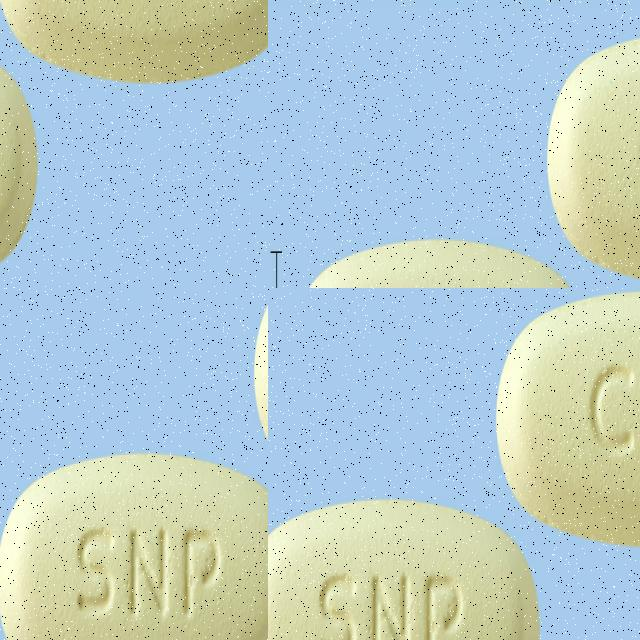A Progen Clarithromycin Tab-500mg: (493, 288, 640, 552), (268, 499, 542, 640)
Amoxicle-7-1-: (8, 477, 268, 640)
Clar - 500mg: (286, 216, 579, 288), (558, 51, 640, 288)
Clarion: (2, 0, 268, 113)
